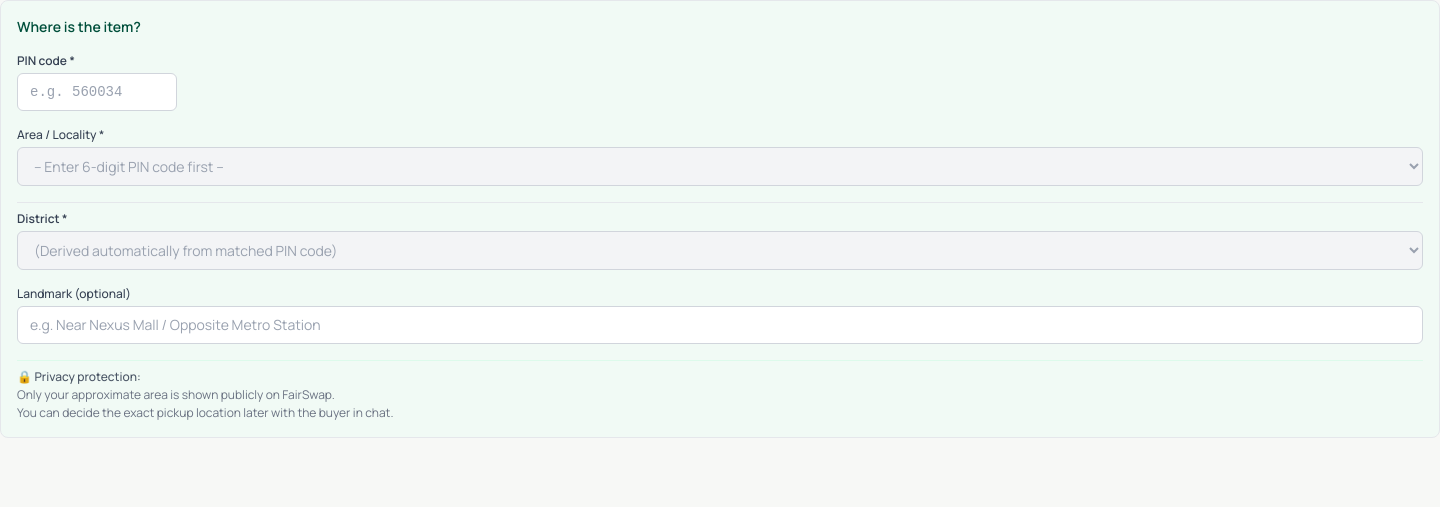
PincodeLocationPicker component › displays error message if PIN code maps to conflicting states (409)
Type "123456" into the field labelled "PIN code *". click: (97,92)
box: x1=17 y1=73 x2=177 y2=111
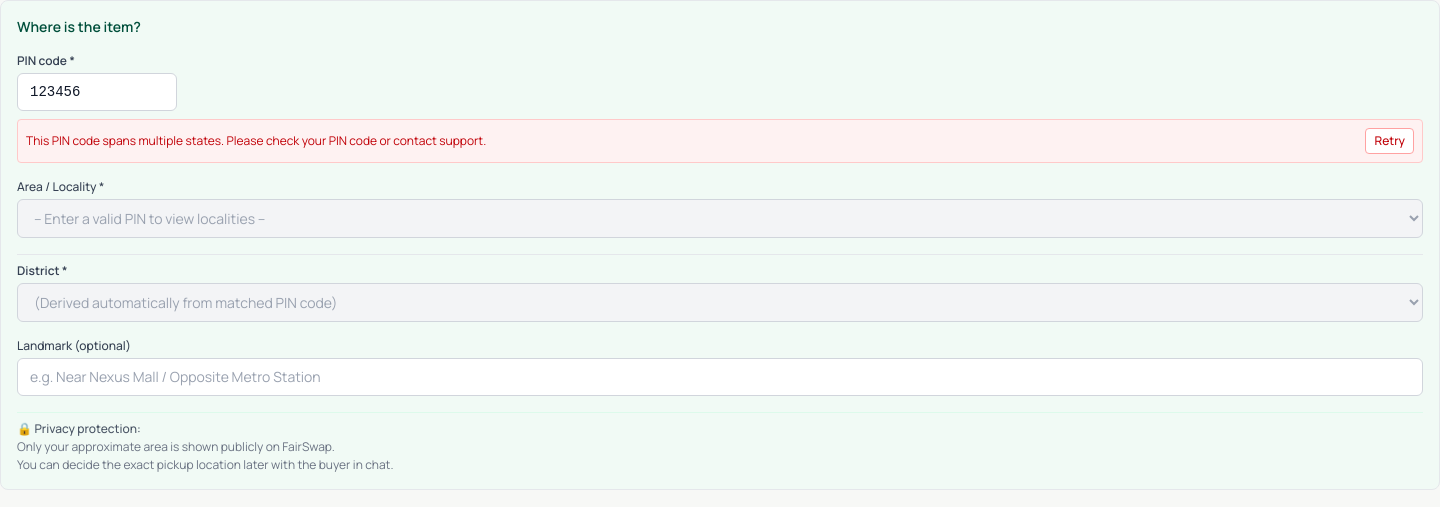
Now the text "PIN code spans multiple states" is shown, box x1=26 y1=132 x2=486 y2=149
